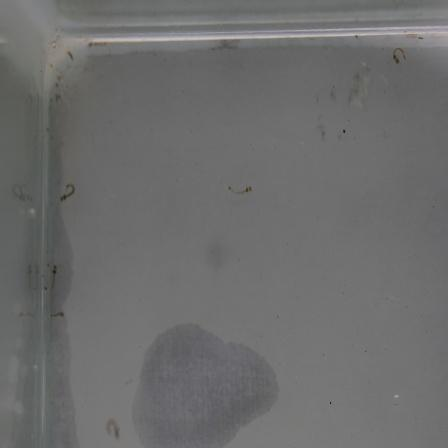Jentik-Nyamuk: (56, 178, 79, 208), (223, 179, 254, 199), (388, 44, 409, 70)
